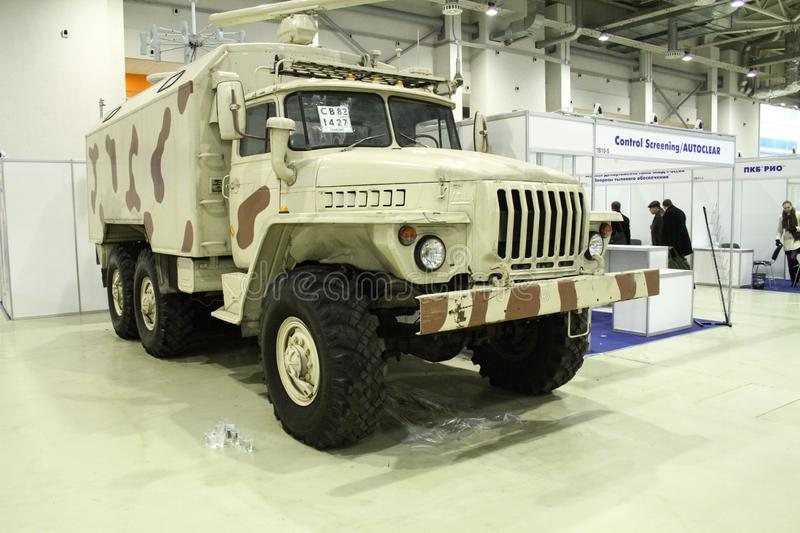camion: (93, 50, 660, 427)
